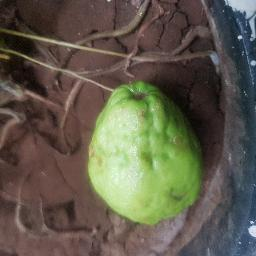Good_guava: (87, 72, 205, 239)
